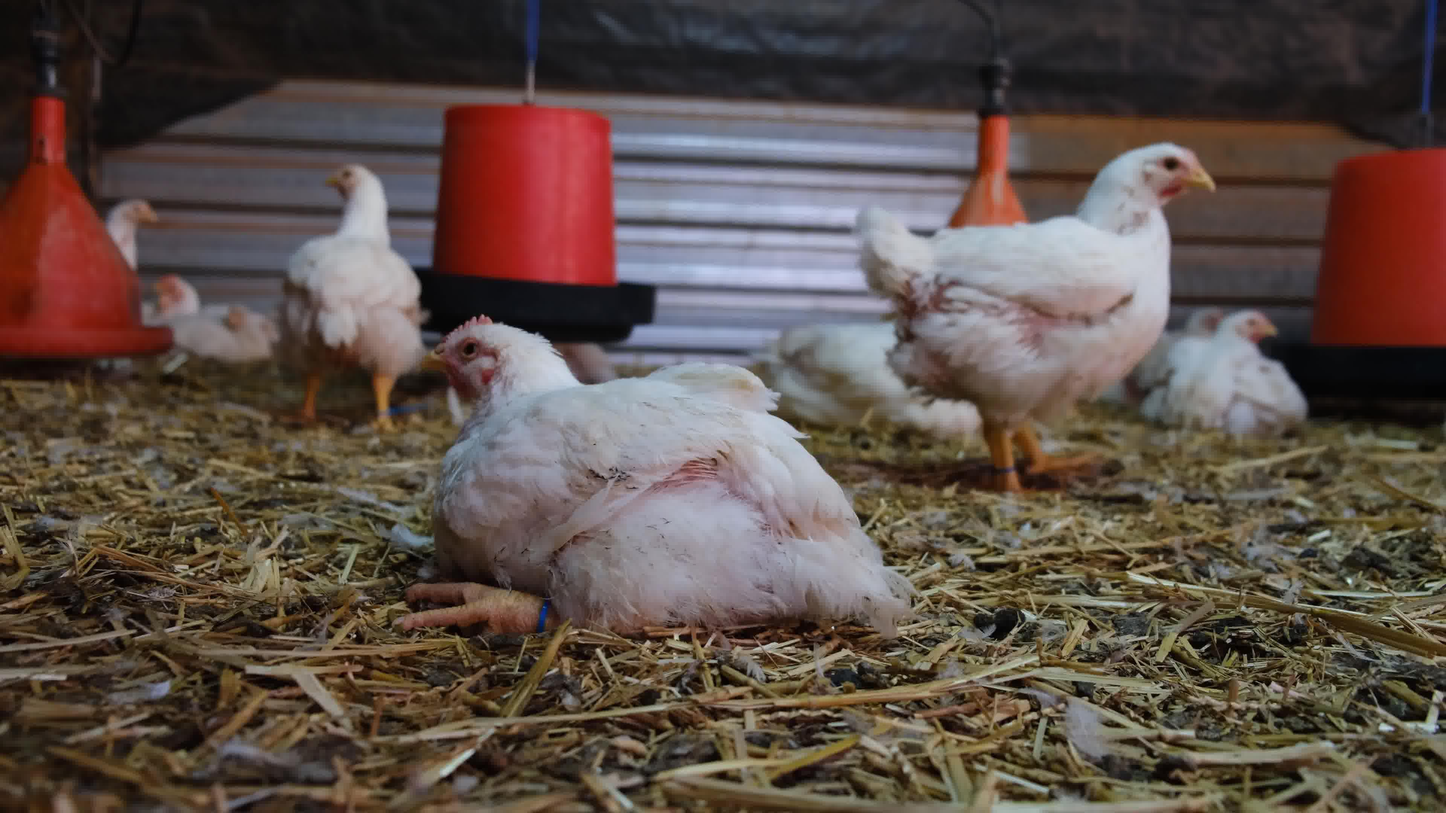AbNormal: (409, 309, 912, 625), (748, 320, 997, 419), (1159, 309, 1307, 440), (138, 270, 280, 360), (1129, 301, 1239, 411)
Normal: (856, 142, 1222, 483), (281, 158, 412, 434), (93, 194, 166, 277)
